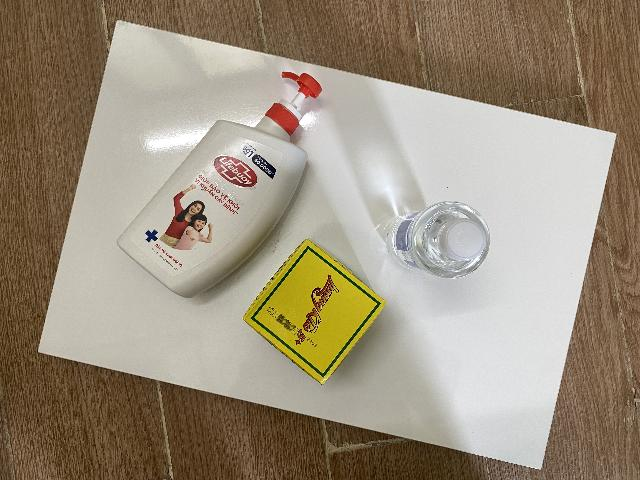aquafina: (385, 201, 490, 279)
life-buoy: (116, 70, 322, 299)
luong_kho: (243, 239, 387, 385)
